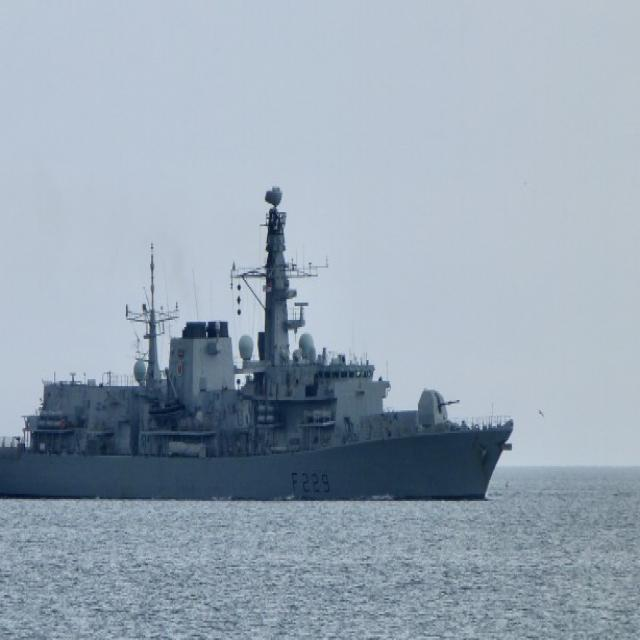Fragata: (1, 175, 520, 504)
